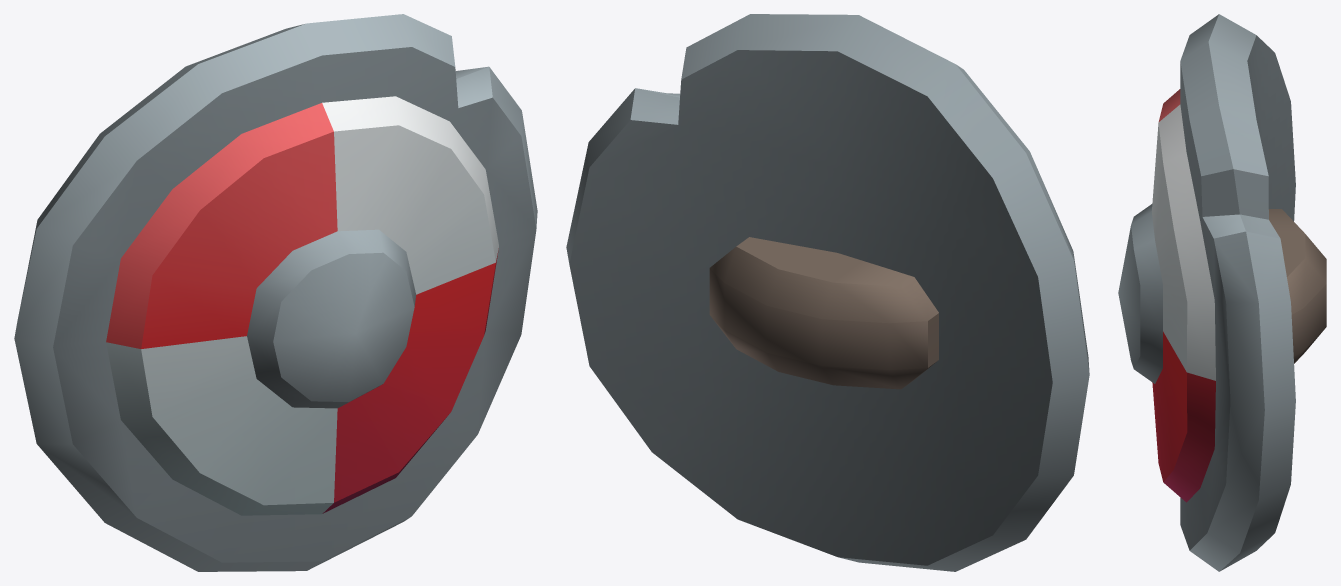
3 views of the same model, side by side, from view 1: azimuth 30°, elevation 25°; view 2: azimuth 150°, elevation 25°; view 3: azimuth 270°, elevation 25° (orthographic). The views are drawn at different scales.
Visible parts, largest first — view 1: shield_round_color; view 2: shield_round_color; view 3: shield_round_color.
Boxes of the visible parts, left/top/right/bottom form: shield_round_color: left=14, top=14, right=537, bottom=571; shield_round_color: left=566, top=14, right=1089, bottom=571; shield_round_color: left=1118, top=14, right=1326, bottom=571.
Size of the model in its own units: 0.8826 by 0.8826 by 0.3319.
1 material, 1 textured.
